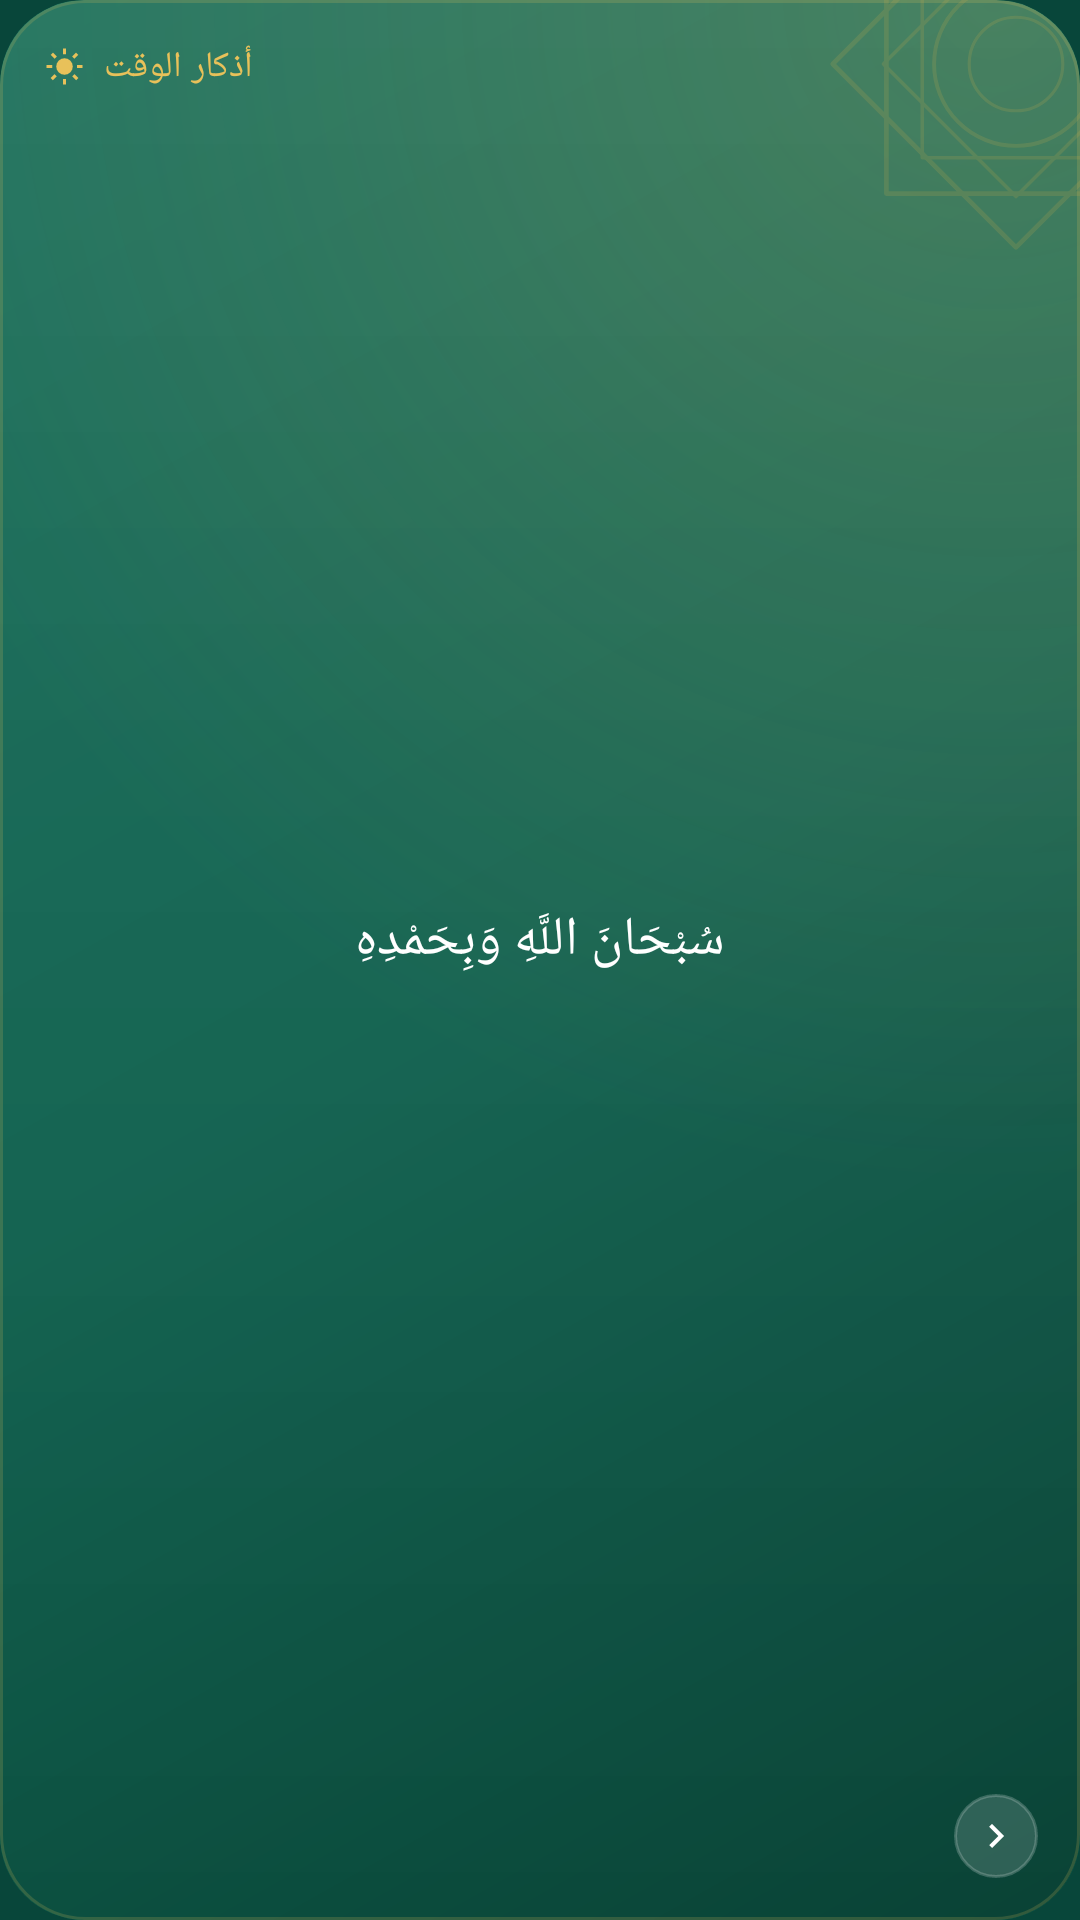

Screen size 1080px×1920px. Icon name, then its box in pixels as [x1, y1, x2, y2]:
sun: [46, 48, 83, 85]
التالي: [954, 1794, 1038, 1878]
